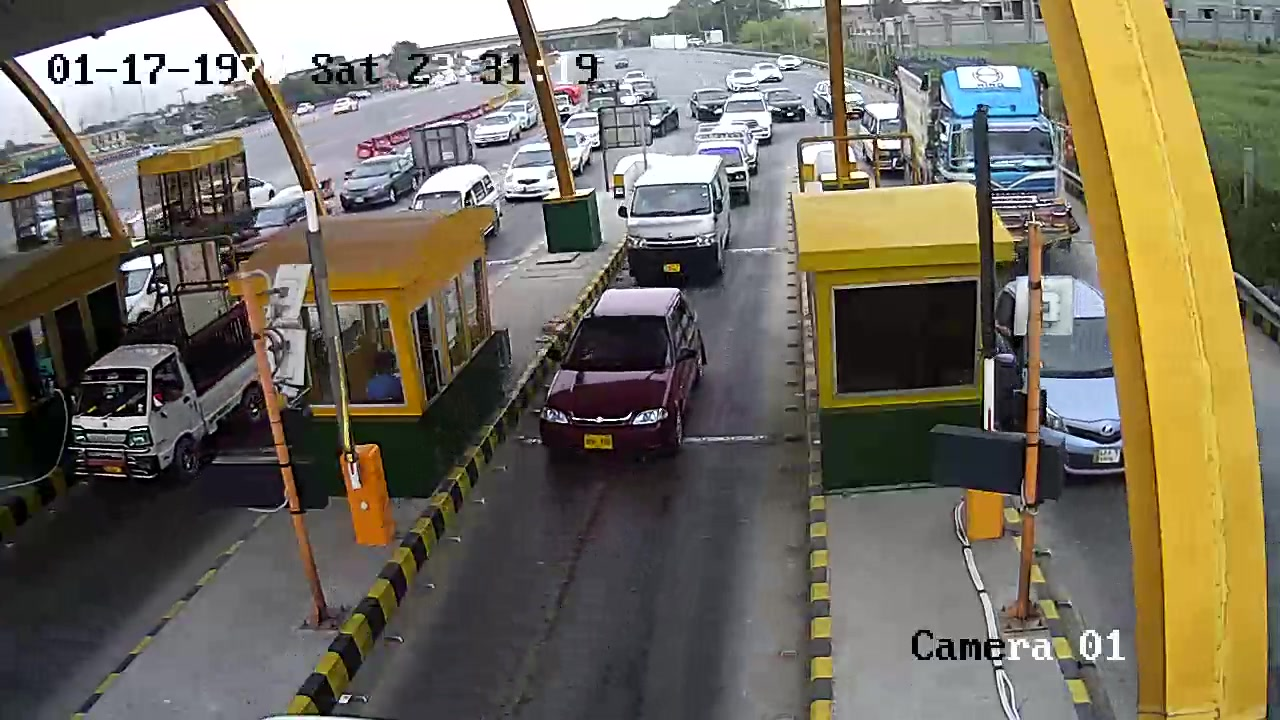F1: (538, 280, 728, 478)
